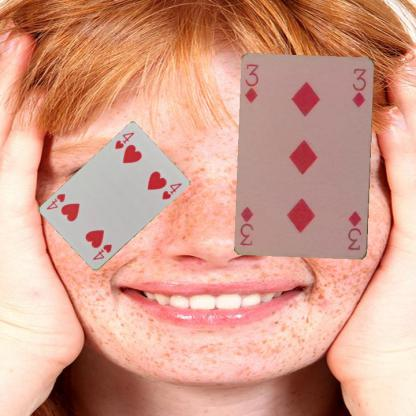3d: (242, 61, 261, 105), (345, 208, 363, 252)
4h: (112, 129, 136, 151), (90, 242, 113, 262)
